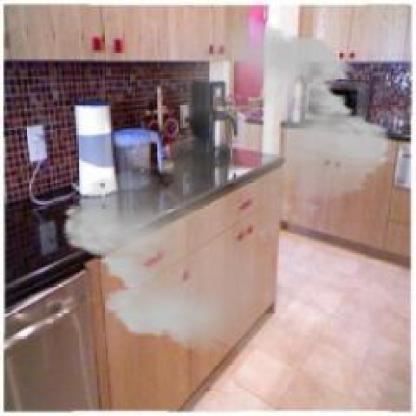Smoke: (51, 17, 401, 354)
